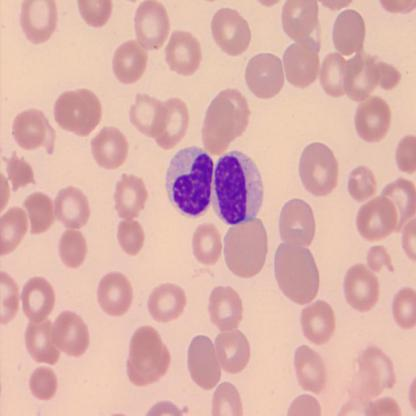Metamyelocyte: (210, 146, 268, 229), (164, 144, 216, 222)
